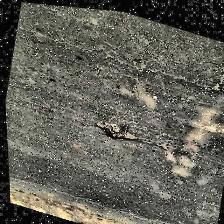pothole: (92, 116, 138, 145)
